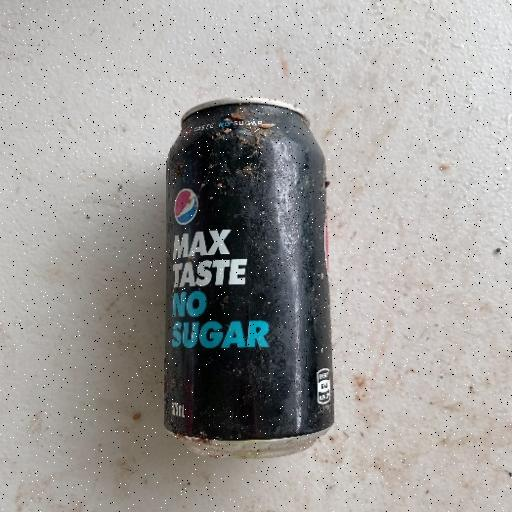Metal: (161, 95, 336, 459)
